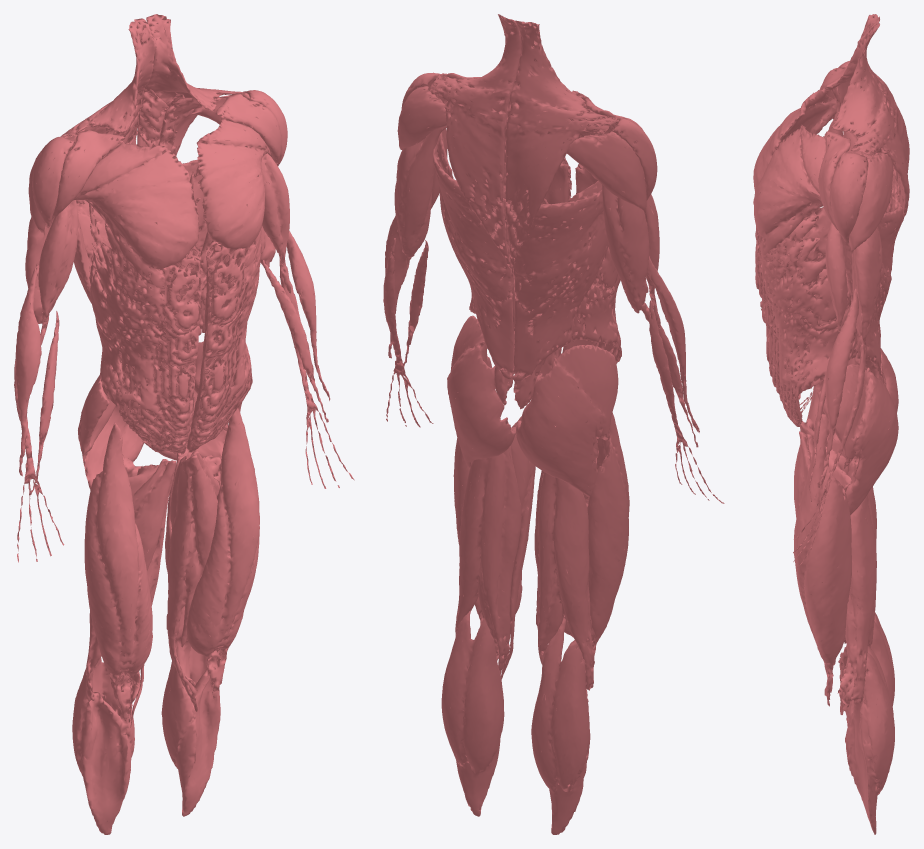
Rendered from anatomy.glb.
3 views of the same model, side by side, from view 1: azimuth 30°, elevation 25°; view 2: azimuth 150°, elevation 25°; view 3: azimuth 270°, elevation 25° (orthographic).
Parts seen in each view (by area): view 1: obliques.R, quadriceps.R, pectoralis.R, quadriceps.L, obliques.L, pectoralis.L, adductors.L, calves.R, calves.L, forearm.R, forearm.L, trapezius.L (+18 smaller); view 2: latissimusDorsi.R, trapezius.R, glutes.R, trapezius.L, hamstrings.L, hamstrings.R, calves.L, calves.R, latissimusDorsi.L, quadriceps.R, glutes.L, forearm.R (+12 smaller); view 3: obliques.L, quadriceps.L, pectoralis.L, glutes.L, calves.L, hamstrings.L, trapezius.L, forearm.L, latissimusDorsi.L, lateralDeltoid.L, posteriorDeltoid.L, triceps.L (+12 smaller).
Part boxes in pixels (bbox=[...]): obliques.R: bbox=[89, 222, 202, 454]; quadriceps.R: bbox=[84, 422, 152, 720]; pectoralis.R: bbox=[74, 142, 199, 288]; quadriceps.L: bbox=[186, 408, 259, 699]; obliques.L: bbox=[189, 235, 261, 452]; pectoralis.L: bbox=[196, 118, 270, 266]; adductors.L: bbox=[166, 450, 221, 711]; calves.R: bbox=[72, 657, 134, 834]; calves.L: bbox=[161, 637, 220, 816]; forearm.R: bbox=[14, 264, 64, 562]; forearm.L: bbox=[262, 231, 354, 488]; trapezius.L: bbox=[137, 14, 248, 155]; latissimusDorsi.R: bbox=[512, 181, 608, 382]; trapezius.R: bbox=[504, 20, 617, 272]; glutes.R: bbox=[516, 344, 618, 497]; trapezius.L: bbox=[430, 14, 521, 272]; hamstrings.L: bbox=[455, 446, 521, 674]; hamstrings.R: bbox=[534, 470, 594, 690]; calves.L: bbox=[441, 607, 504, 816]; calves.R: bbox=[531, 616, 590, 834]; latissimusDorsi.L: bbox=[433, 131, 513, 378]; quadriceps.R: bbox=[564, 412, 629, 655]; glutes.L: bbox=[447, 315, 515, 467]; forearm.R: bbox=[641, 256, 724, 503]; obliques.L: bbox=[755, 216, 857, 426]; quadriceps.L: bbox=[794, 414, 851, 706]; pectoralis.L: bbox=[753, 124, 826, 255]; glutes.L: bbox=[817, 364, 898, 515]; calves.L: bbox=[845, 646, 894, 834]; hamstrings.L: bbox=[840, 458, 876, 711]; trapezius.L: bbox=[831, 23, 909, 237]; forearm.L: bbox=[793, 285, 865, 567]; latissimusDorsi.L: bbox=[845, 195, 903, 377]; lateralDeltoid.L: bbox=[830, 152, 868, 243]; posteriorDeltoid.L: bbox=[849, 152, 892, 253]; triceps.L: bbox=[852, 226, 882, 341].
Size of the model in its own units: 0.7621 by 1.75 by 0.3109.
